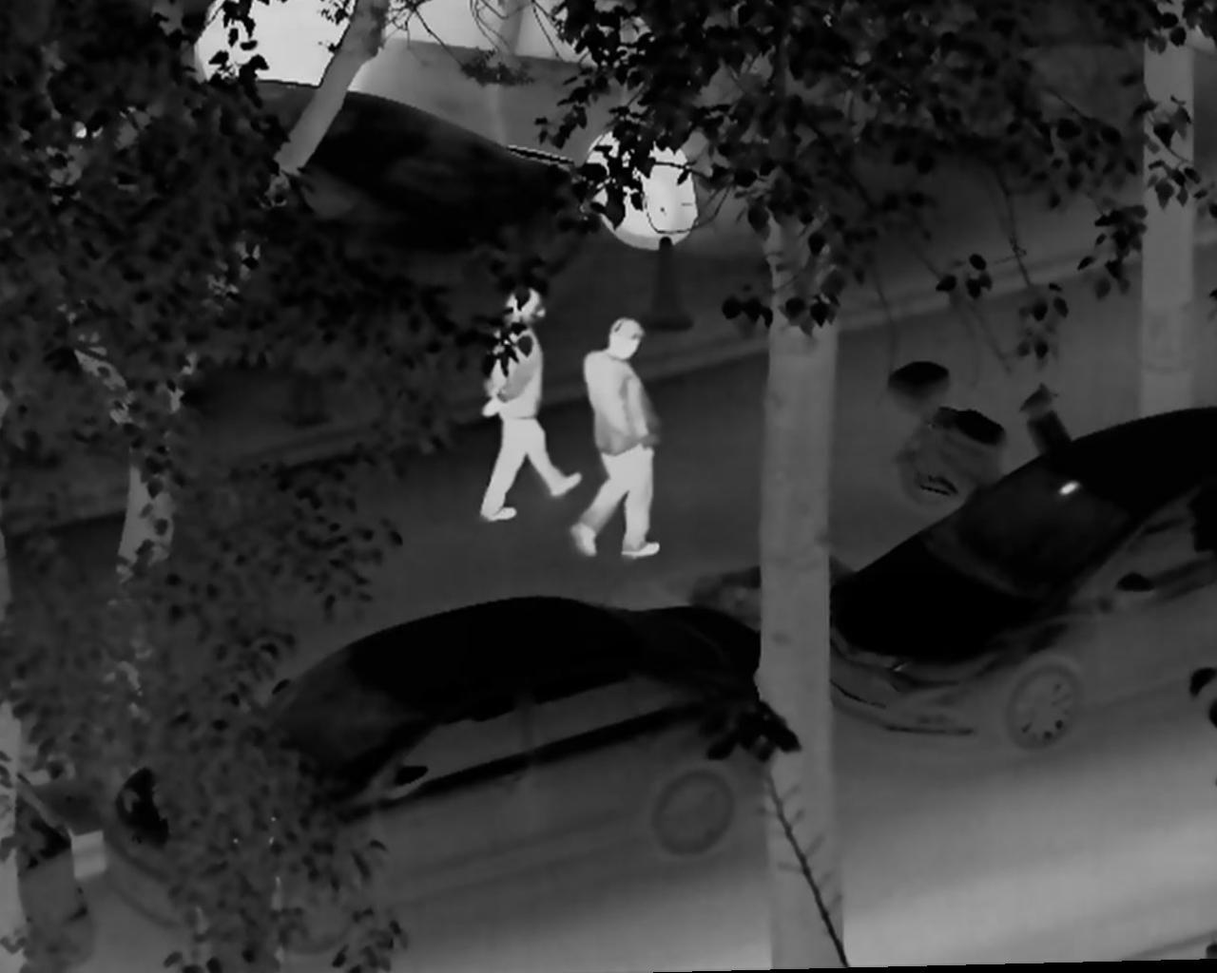person: (460, 280, 587, 526), (558, 309, 666, 563)
